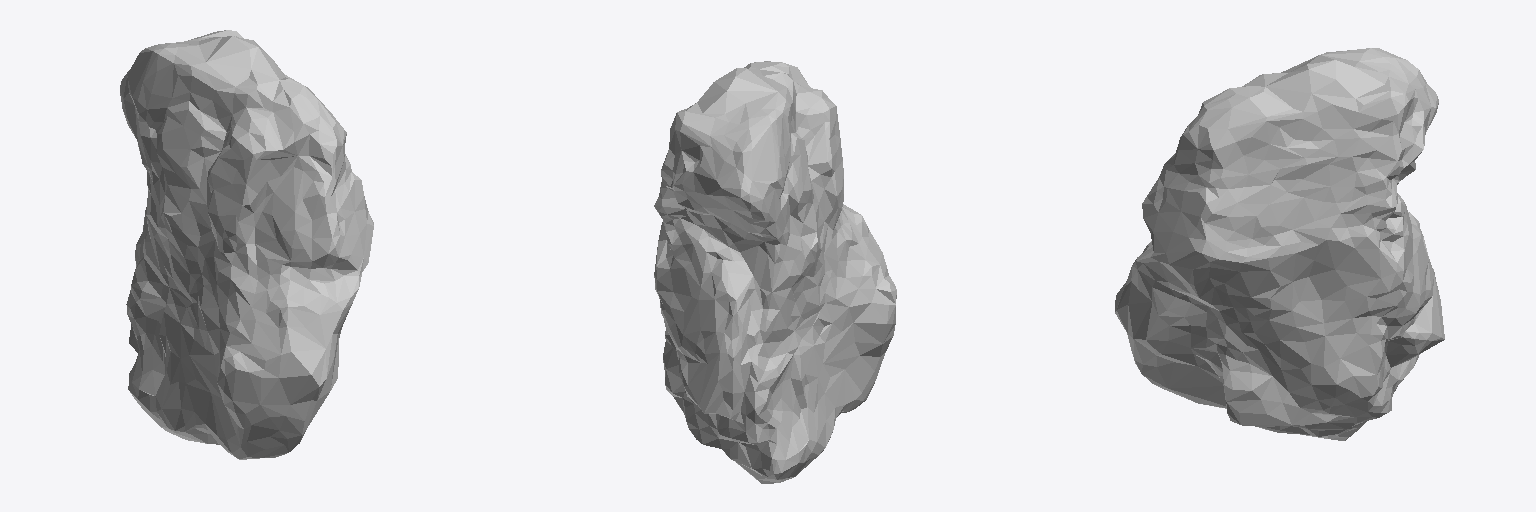
The model's file is falaise.obj.
The picture shows the model from 3 angles: view 1: azimuth 30°, elevation 25°; view 2: azimuth 150°, elevation 25°; view 3: azimuth 270°, elevation 25°; orthographic projection.
Parts seen in each view (by area): view 1: falaise; view 2: falaise; view 3: falaise.
Boxes of the visible parts, box(x1,y1,x2,y2) form: falaise: box(120, 30, 373, 459); falaise: box(654, 61, 896, 483); falaise: box(1115, 48, 1444, 440).
Size of the model in its own units: 23.48 by 56.23 by 42.42.